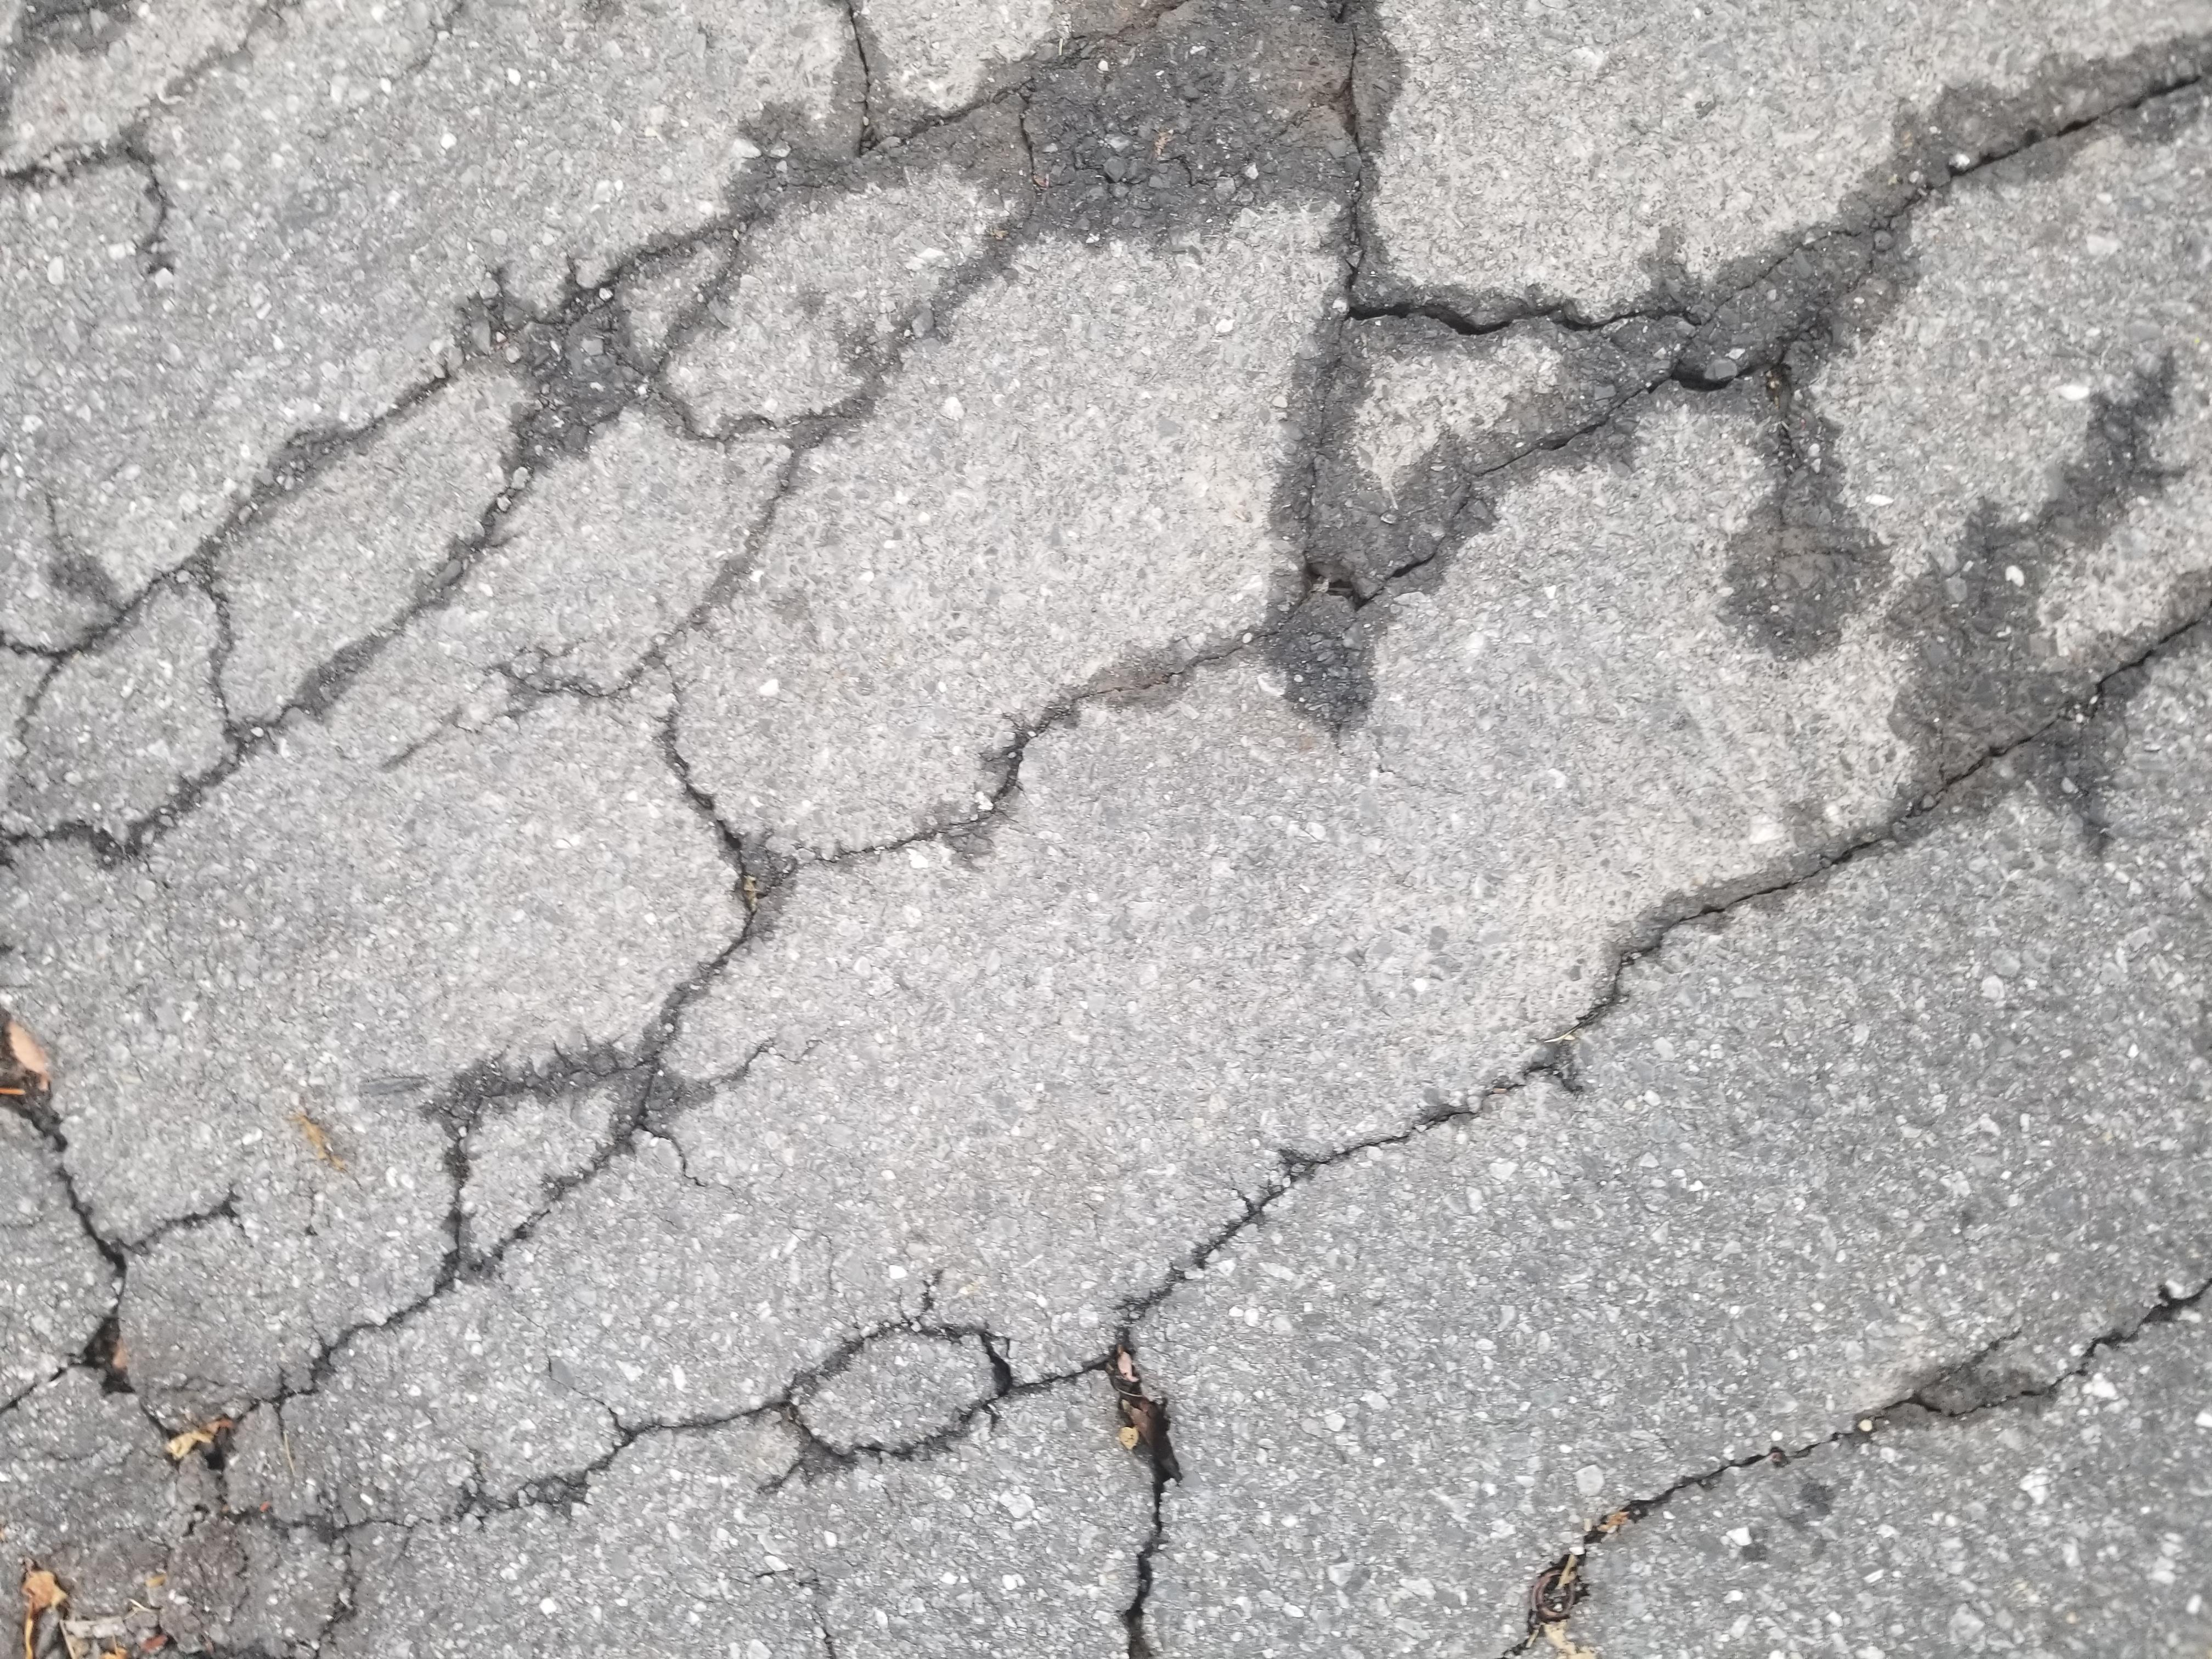crack: (381, 840, 1308, 1588), (1245, 148, 2212, 810), (221, 132, 911, 554), (1339, 922, 1905, 1291)
